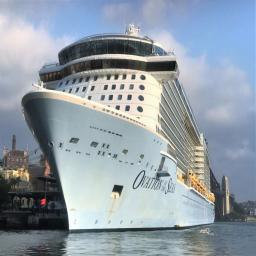cruises: (22, 16, 223, 241)
